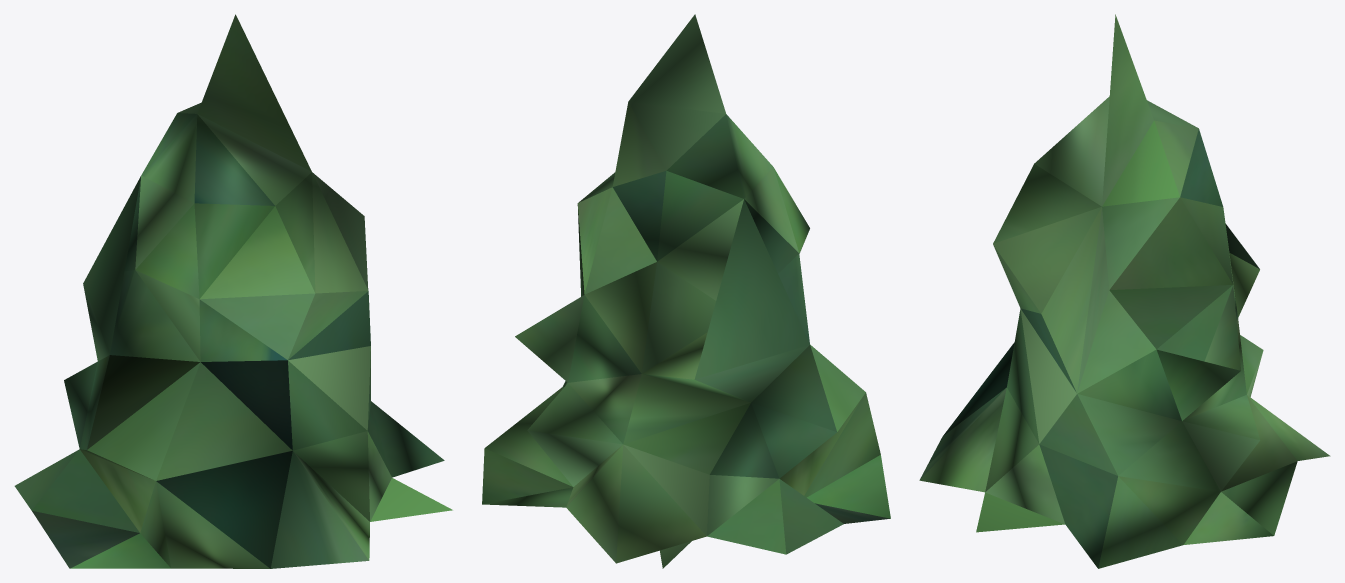
Rendered from tree-sapin-meshy-lod3.glb.
3 views of the same model, side by side, from view 1: azimuth 30°, elevation 25°; view 2: azimuth 150°, elevation 25°; view 3: azimuth 270°, elevation 25° (orthographic). The views are drawn at different scales.
Parts seen in each view (by area): view 1: Mesh_0.001; view 2: Mesh_0.001; view 3: Mesh_0.001.
Part boxes in pixels (x1,y1,x2,y2): Mesh_0.001: (14, 14, 452, 568); Mesh_0.001: (482, 14, 890, 568); Mesh_0.001: (919, 14, 1330, 568).
Bounding box in the file's own units: 8.77 × 12.17 × 8.56.
Materials: 1 (1 with a texture image).
